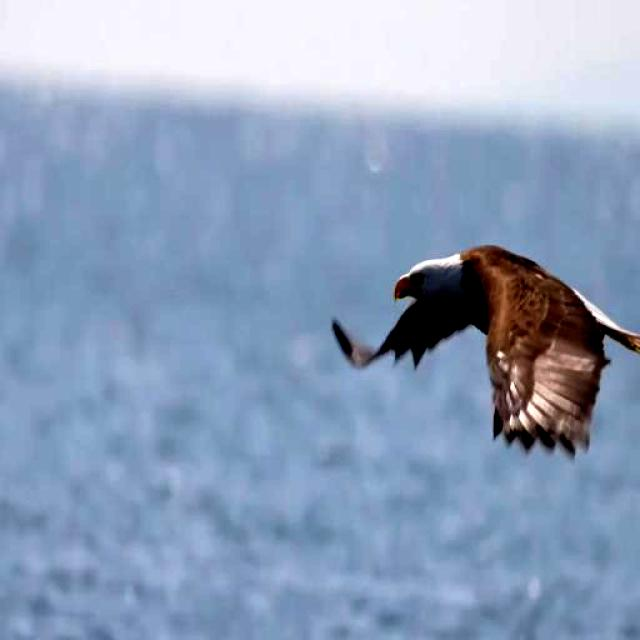airplane: (314, 222, 640, 474)
